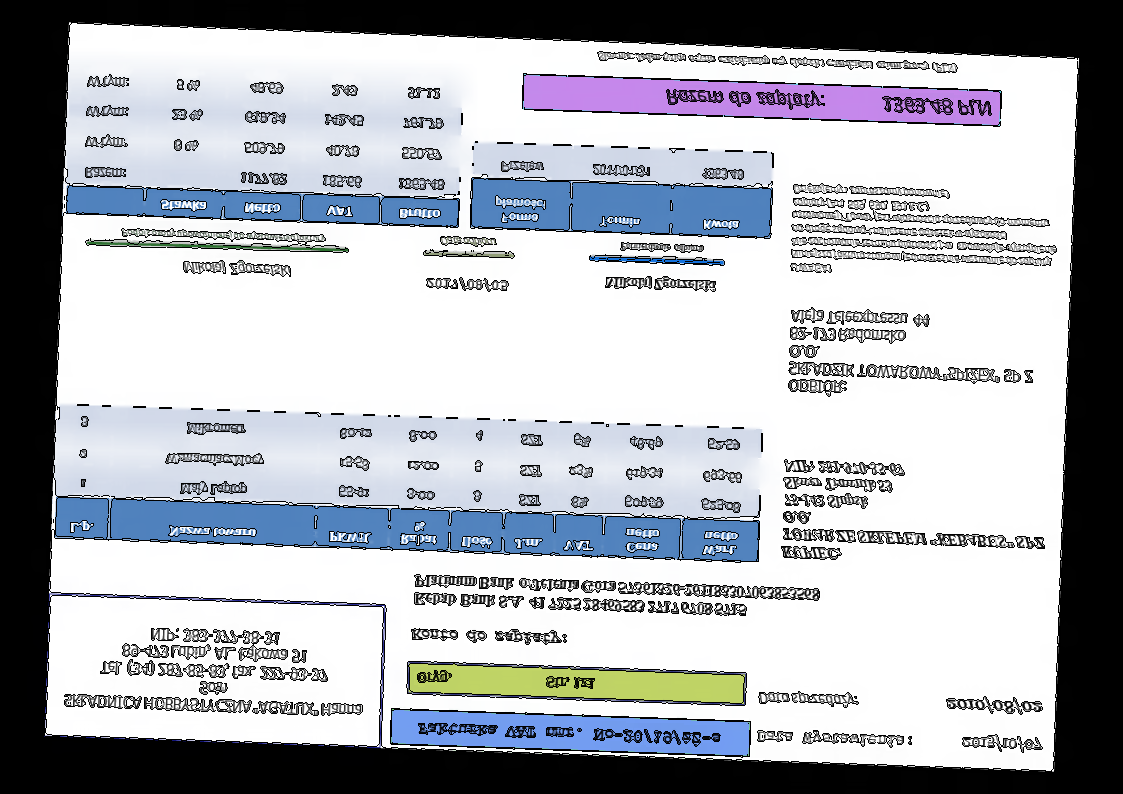Table: (53, 402, 764, 563), (63, 63, 466, 229), (468, 139, 775, 240)
TextBox: (778, 455, 1055, 572), (61, 619, 367, 721), (788, 181, 1060, 283), (785, 303, 1039, 406), (410, 572, 823, 622), (663, 84, 994, 120), (595, 48, 960, 77), (415, 719, 724, 749), (414, 667, 597, 694), (119, 227, 329, 247), (755, 725, 914, 751), (407, 624, 571, 649), (601, 272, 718, 295), (181, 258, 296, 280), (944, 692, 1044, 717), (756, 687, 860, 710), (422, 272, 509, 296), (959, 732, 1044, 755), (617, 240, 705, 256), (437, 233, 499, 250)
